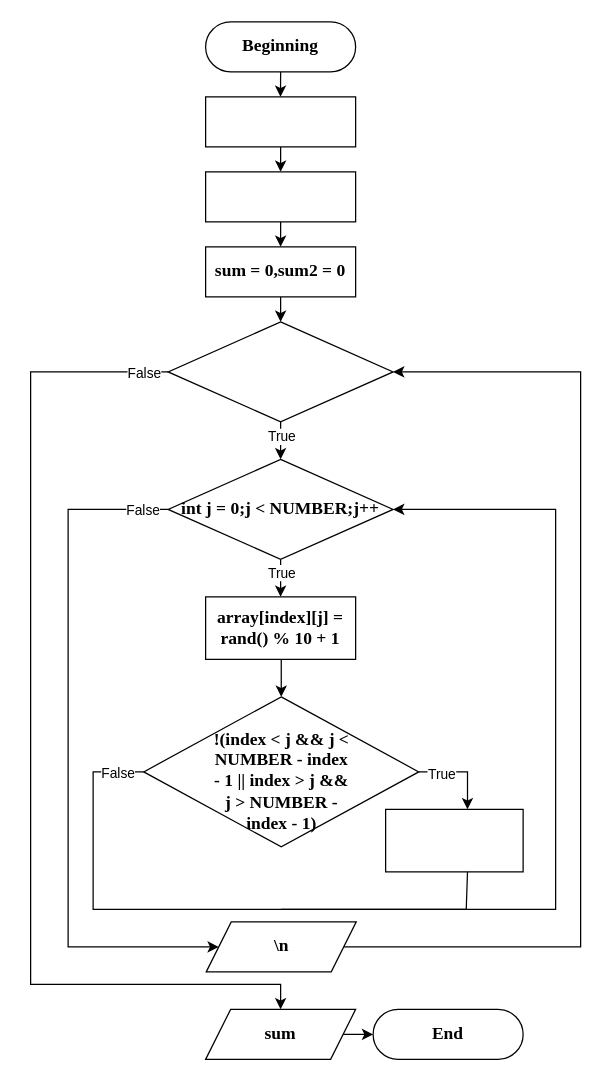
This 613x1081 diagram has some shape labels left out. Each missing label, with the centre of its shape:
"int index = 0;index < NUMBER;index++" belongs at point 280,371.
"NUMBER = 10" belongs at point 280,196.
"srand(time(0))" belongs at point 280,121.
"sum = sum + array[index][j]" belongs at point 453,840.
